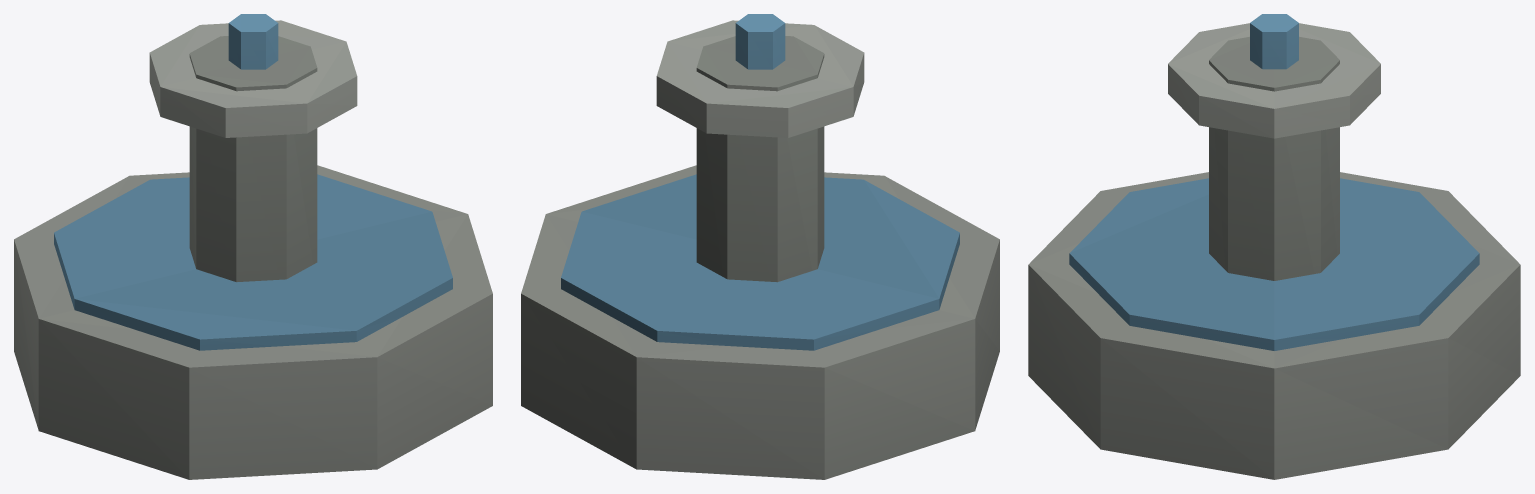
File: fountain.glb
3 renders of one model, left to right at view 1: azimuth 30°, elevation 25°; view 2: azimuth 150°, elevation 25°; view 3: azimuth 270°, elevation 25°, orthographic.
Visible parts, largest first — view 1: fountain; view 2: fountain; view 3: fountain.
Boxes of the visible parts, x1,y1,x2,y2 form: fountain: [14, 14, 492, 479]; fountain: [521, 14, 999, 479]; fountain: [1028, 14, 1520, 479].
Size of the model in its own units: 1.2 by 0.95 by 1.2.
